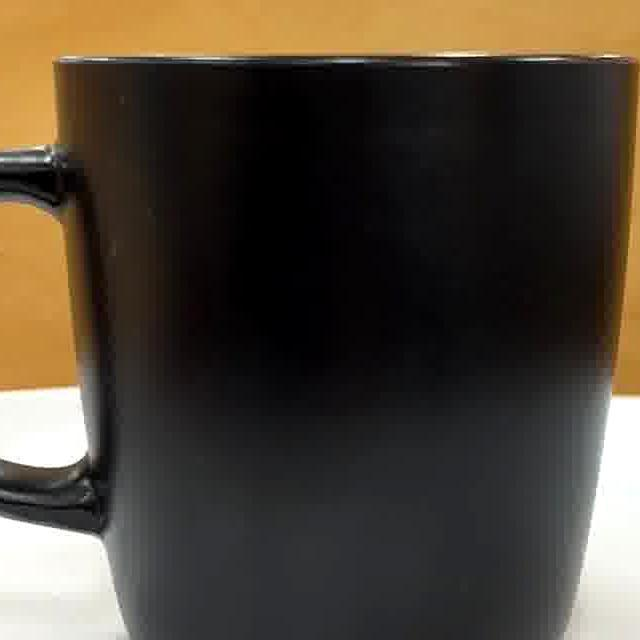cup: (0, 56, 633, 640)
